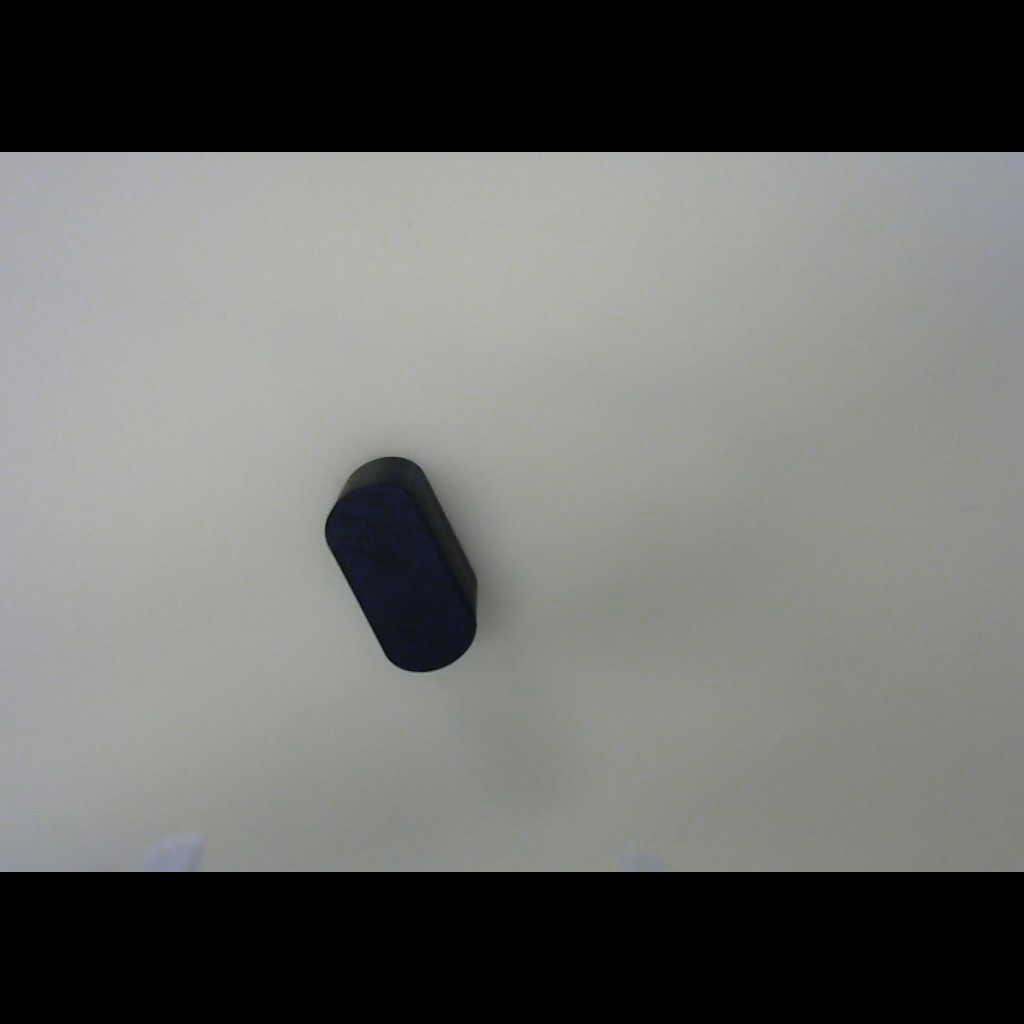oval: (290, 431, 520, 704)
